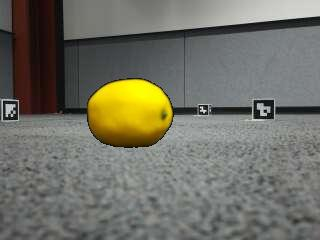lemon: (88, 78, 172, 146)
